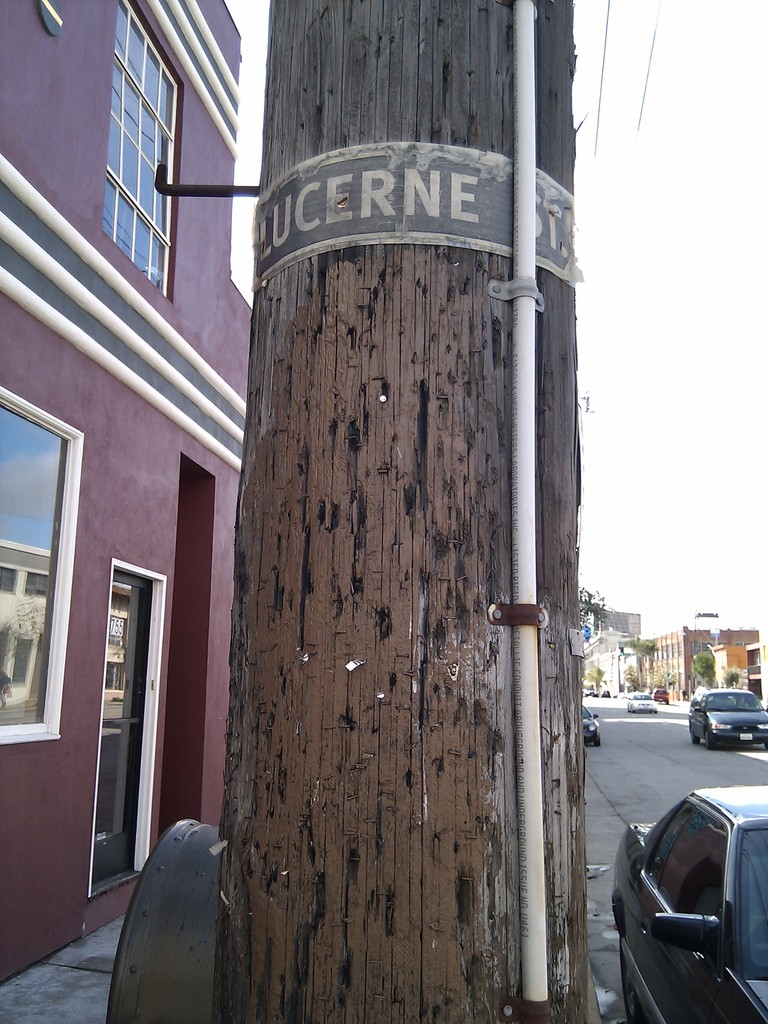Car: (610, 782, 767, 1023), (584, 677, 767, 752)
